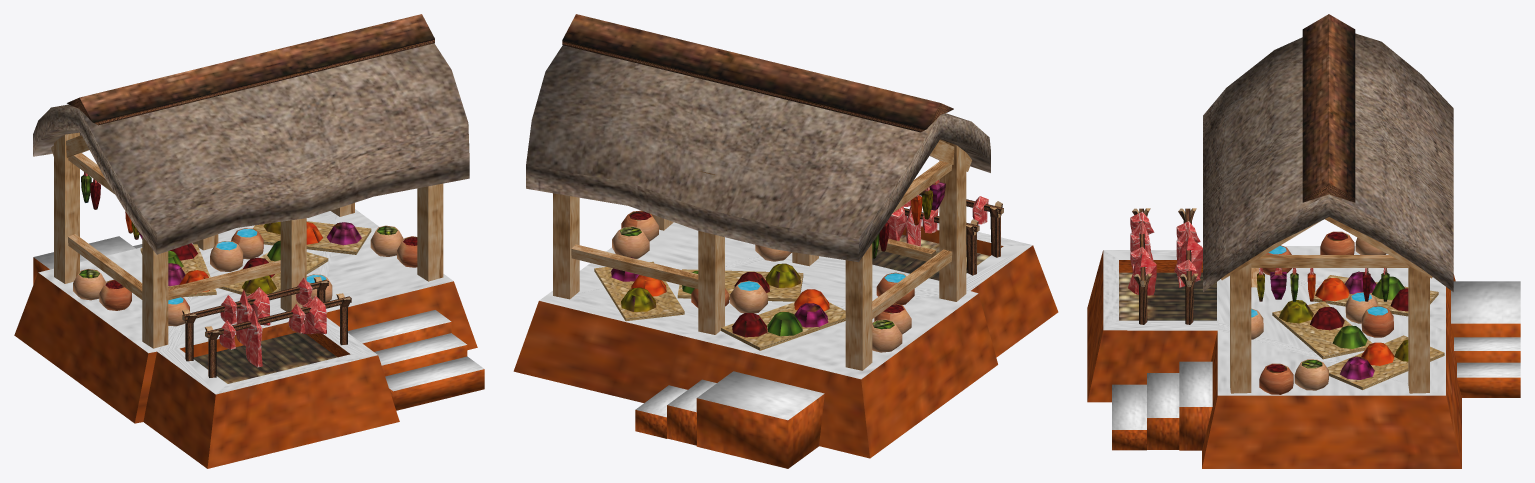
File: farmstead_2.dae
The picture shows the model from 3 angles, left to right: view 1: azimuth 30°, elevation 25°; view 2: azimuth 150°, elevation 25°; view 3: azimuth 270°, elevation 25°; orthographic projection. The views are drawn at different scales.
Visible parts, largest first — view 1: farm_2; view 2: farm_2; view 3: farm_2.
Boxes of the visible parts, x1,y1,x2,y2 form: farm_2: (14, 14, 484, 468); farm_2: (513, 14, 1058, 468); farm_2: (1087, 14, 1520, 468).
Bounding box in the file's own units: 12.84 × 13.7 × 10.11.
